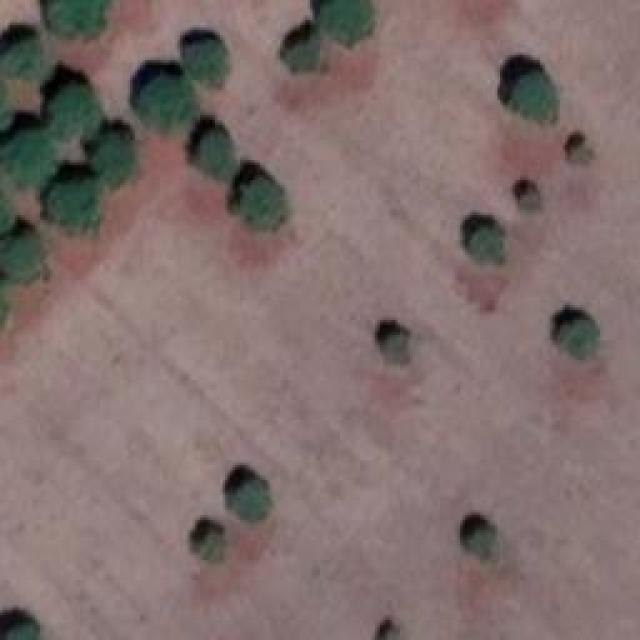Tree: (143, 75, 196, 138), (0, 127, 52, 187), (50, 78, 103, 133), (240, 170, 290, 228), (50, 178, 100, 228), (510, 65, 555, 118), (227, 480, 275, 528), (197, 122, 235, 180), (100, 130, 140, 183), (47, 0, 105, 35), (0, 235, 45, 280), (324, 0, 367, 42), (195, 40, 228, 88), (0, 40, 40, 78), (560, 315, 598, 355), (285, 35, 320, 73), (468, 227, 503, 265), (200, 527, 230, 565), (468, 525, 498, 563), (380, 330, 410, 360), (0, 622, 40, 640), (523, 190, 546, 213), (575, 147, 590, 165)
